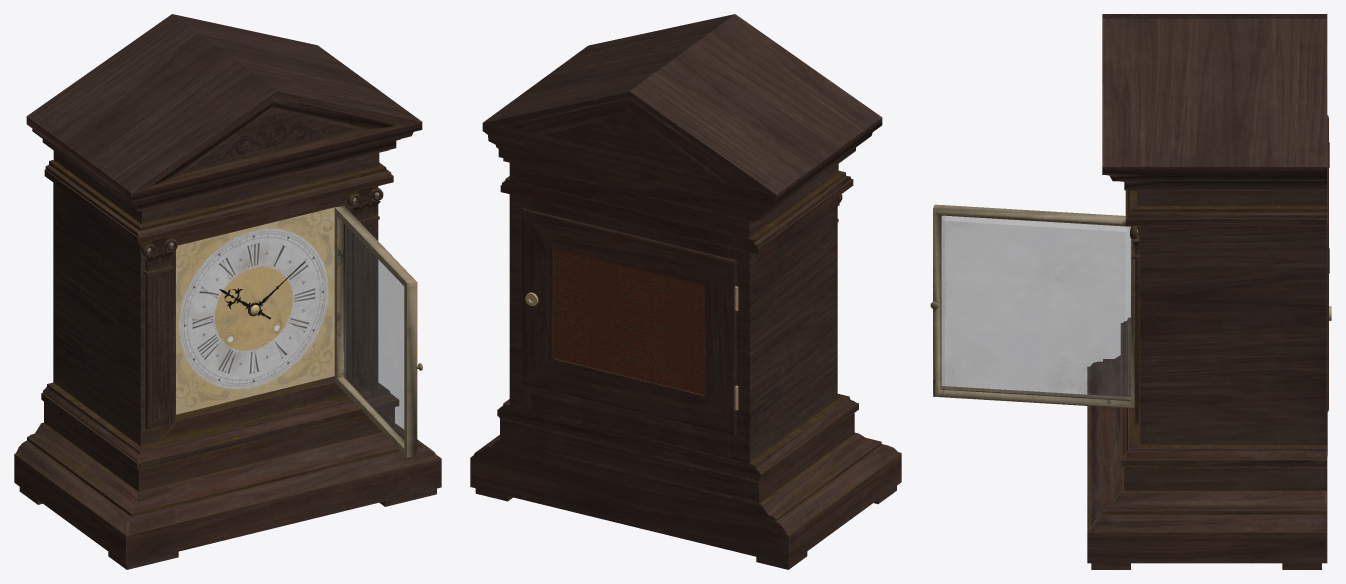
The model's file is antique_mantel_clock.glb.
The picture shows the model from 3 angles, left to right: view 1: azimuth 30°, elevation 25°; view 2: azimuth 150°, elevation 25°; view 3: azimuth 270°, elevation 25°; orthographic projection. The views are drawn at different scales.
Visible parts, largest first — view 1: Clock_low, ClockDoor_low.001; view 2: Clock_low; view 3: Clock_low, ClockDoor_low.001.
Boxes of the visible parts, <box> form: Clock_low: <box>14,14,441,569</box>; ClockDoor_low.001: <box>334,206,422,457</box>; Clock_low: <box>470,14,901,569</box>; Clock_low: <box>1087,14,1331,569</box>; ClockDoor_low.001: <box>930,204,1134,408</box>.
Size of the model in its own units: 0.31 by 0.4109 by 0.3176.
Materials: 1 (1 with a texture image).
